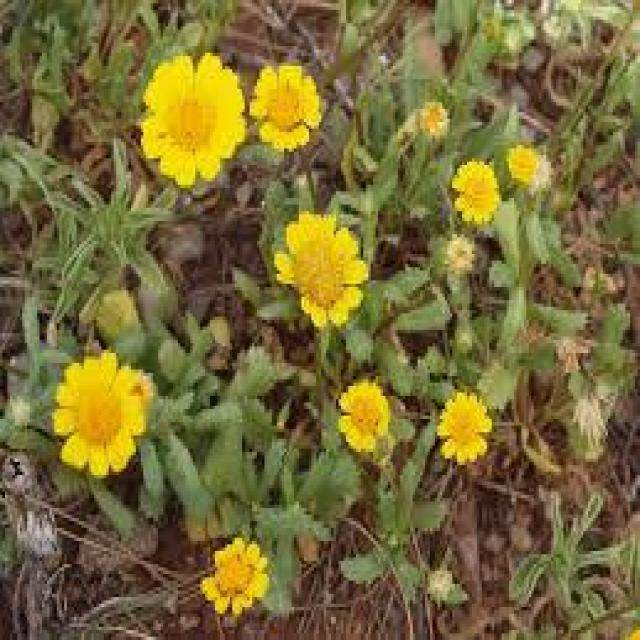organic waste: (135, 51, 246, 183), (56, 350, 147, 475), (279, 209, 371, 325), (254, 59, 328, 155), (202, 536, 276, 612), (436, 388, 493, 467), (335, 378, 389, 453), (457, 162, 502, 228), (506, 140, 544, 187)
